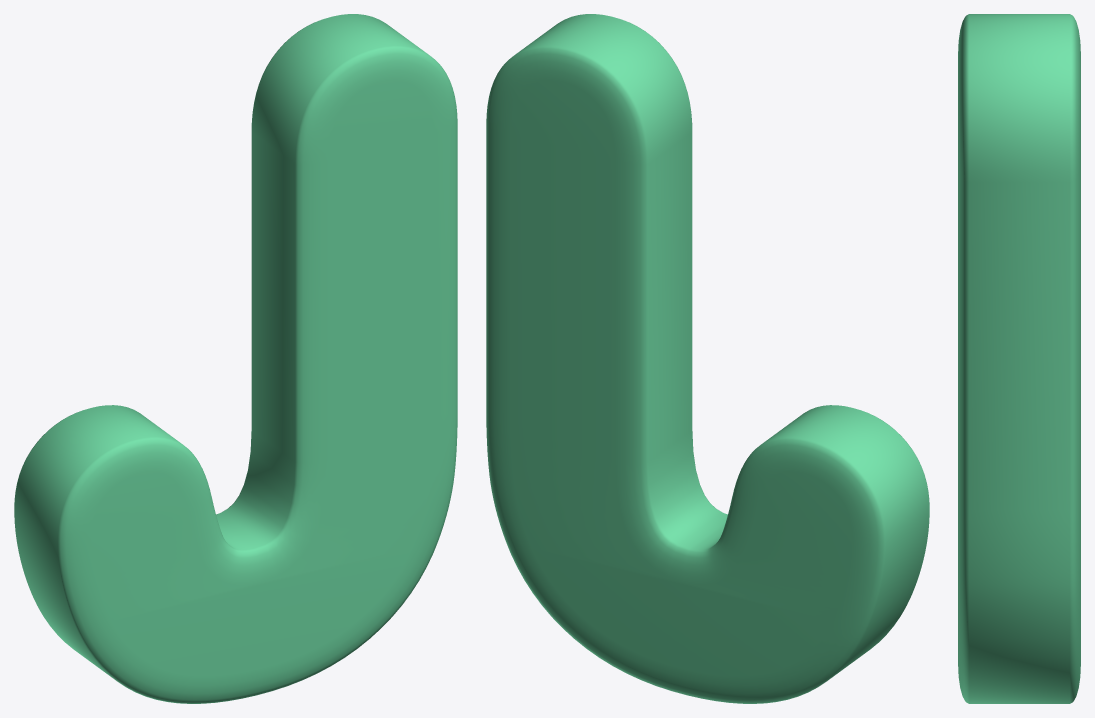
File: RA_Letter_J.fbx
The picture shows the model from 3 angles, left to right: view 1: azimuth 30°, elevation 25°; view 2: azimuth 150°, elevation 25°; view 3: azimuth 270°, elevation 25°; orthographic projection. The views are drawn at different scales.
Parts seen in each view (by area): view 1: RA_Letter_J; view 2: RA_Letter_J; view 3: RA_Letter_J.
Part boxes in pixels (box(x1,y1,x2,y2)): RA_Letter_J: box(14, 14, 457, 703); RA_Letter_J: box(486, 14, 929, 703); RA_Letter_J: box(958, 14, 1080, 703).
Size of the model in its own units: 122 by 180 by 28.
